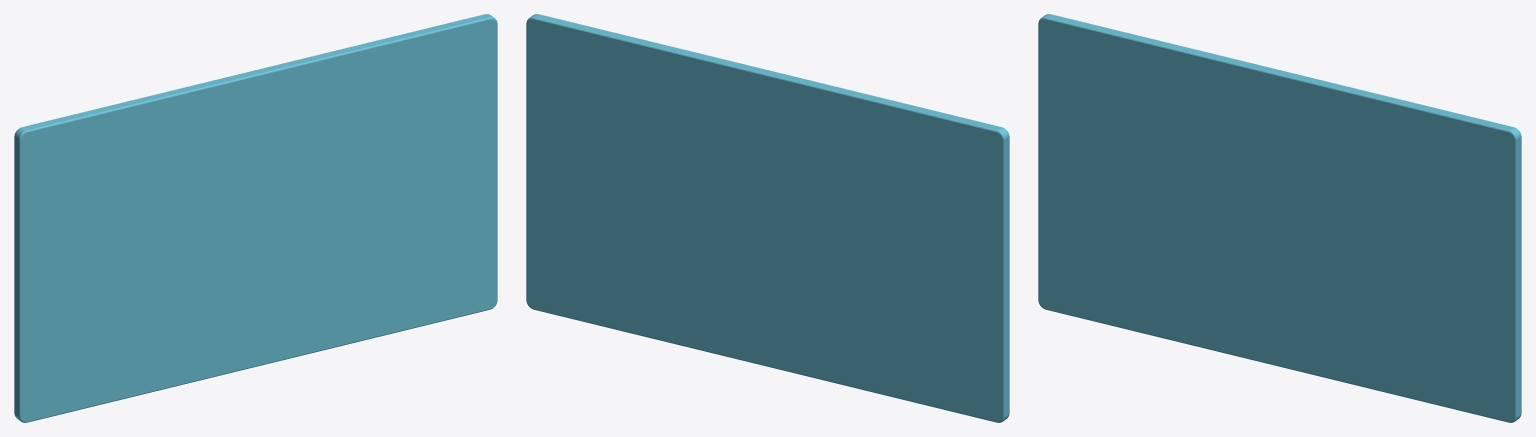
File: window.obj
3 renders of one model, left to right at view 1: azimuth 30°, elevation 25°; view 2: azimuth 150°, elevation 25°; view 3: azimuth 330°, elevation 25°, orthographic.
Visible parts, largest first — view 1: Window; view 2: Window; view 3: Window.
Part boxes in pixels (x1,y1,x2,y2): Window: (14,14,497,422); Window: (526,14,1009,422); Window: (1038,14,1521,422).
Bounding box in the file's own units: 9.37 × 5.47 × 0.2.
